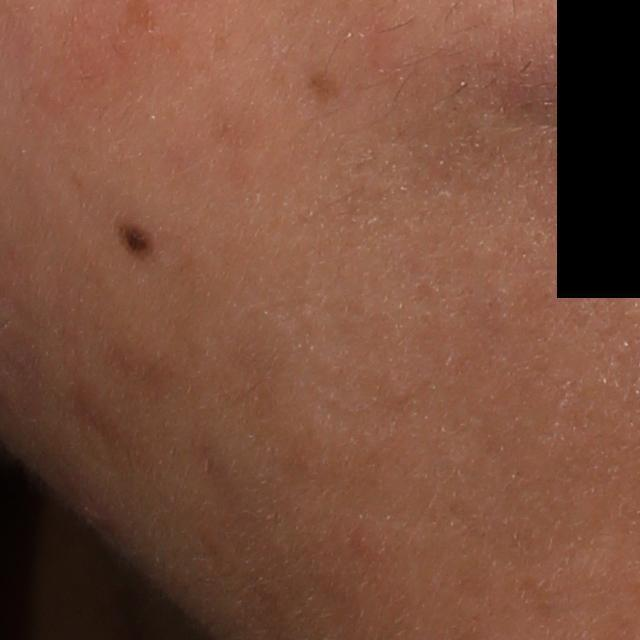nevus: (117, 218, 159, 260)
